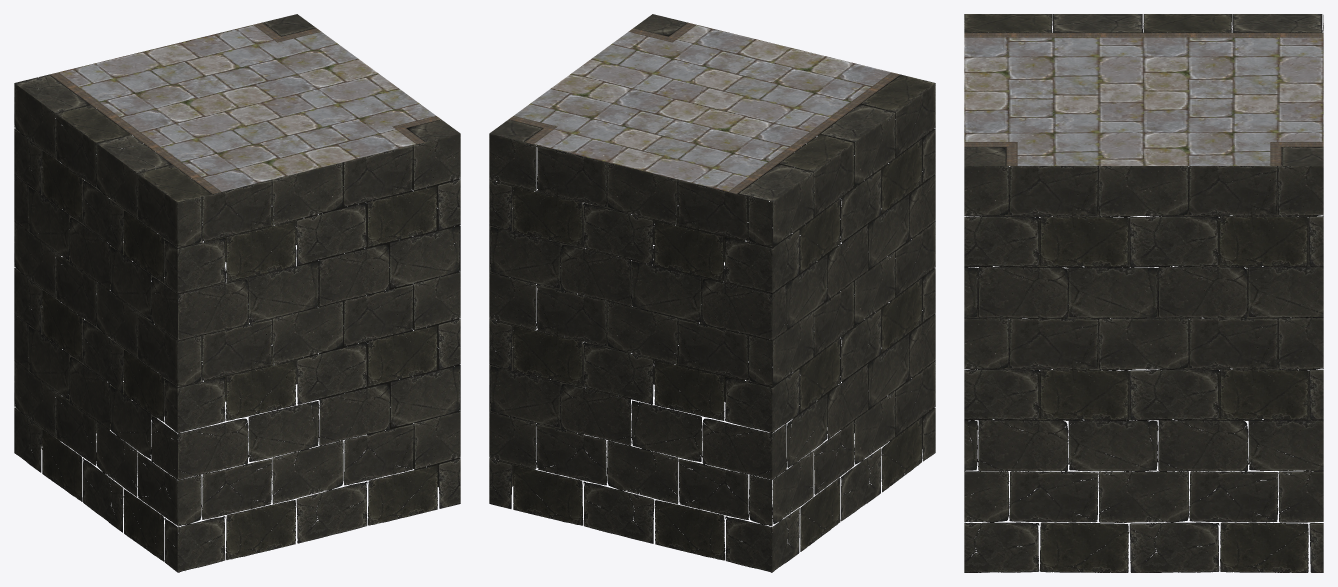
3 renders of one model, left to right at view 1: azimuth 30°, elevation 25°; view 2: azimuth 150°, elevation 25°; view 3: azimuth 270°, elevation 25°, orthographic. The views are drawn at different scales.
Parts seen in each view (by area): view 1: SM_Dowdun_Walkway_8x8x10_01_LOD0; view 2: SM_Dowdun_Walkway_8x8x10_01_LOD0; view 3: SM_Dowdun_Walkway_8x8x10_01_LOD0.
Boxes of the visible parts, x1,y1,x2,y2 form: SM_Dowdun_Walkway_8x8x10_01_LOD0: [14, 14, 460, 572]; SM_Dowdun_Walkway_8x8x10_01_LOD0: [489, 14, 935, 572]; SM_Dowdun_Walkway_8x8x10_01_LOD0: [964, 14, 1323, 572].
Bounding box in the file's own units: 8 × 10 × 8.
3 materials, 3 textured.
